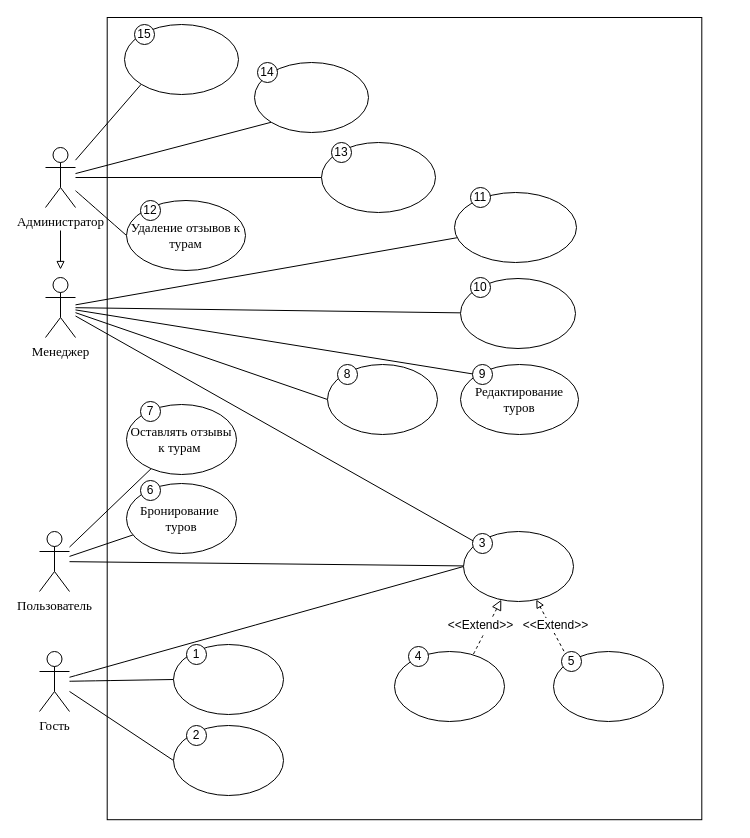
The diagram is 750 pixels wide and 838 high, and some of its shapes have lost their labels. The box of each missing label's shape, as (x1, y1, x2, y2) in pixels:
Авторизация: (172, 724, 284, 796)
Блокировка/разблокировка пользователей: (254, 62, 368, 132)
Добавление туров: (326, 364, 438, 434)
Подтверждение/отмена брони туров: (454, 192, 576, 262)
Просмотр тура: (394, 650, 504, 722)
Просмотр туров: (462, 530, 574, 602)
Регистрация: (172, 644, 284, 714)
Смена роли пользователям: (320, 142, 436, 212)
Удаление пользователей: (124, 24, 238, 94)
Удаление туров: (460, 278, 576, 348)
Фильтрация туров: (552, 650, 664, 722)
